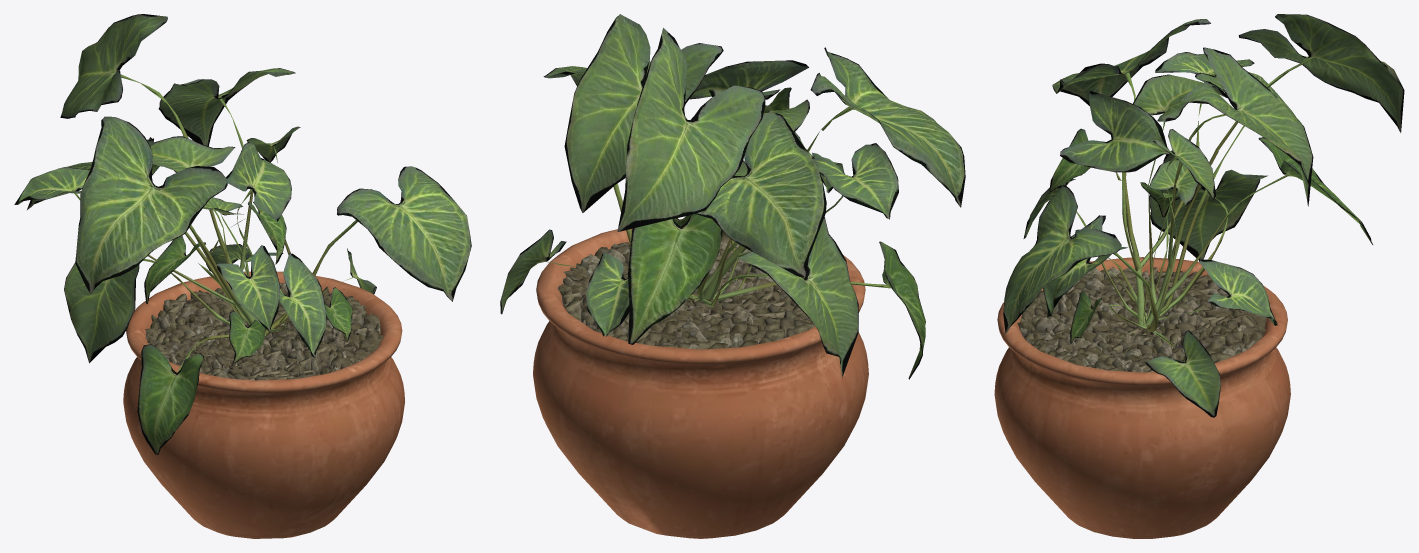
The model's file is potted_plant_02.glb.
3 views of the same model, side by side, from view 1: azimuth 30°, elevation 25°; view 2: azimuth 150°, elevation 25°; view 3: azimuth 270°, elevation 25° (orthographic). The views are drawn at different scales.
Visible parts, largest first — view 1: potted_plant_02_leaves, potted_plant_02_pot; view 2: potted_plant_02_leaves, potted_plant_02_pot; view 3: potted_plant_02_pot, potted_plant_02_leaves.
Boxes of the visible parts, box(x1,y1,x2,y2) form: potted_plant_02_leaves: box(14, 14, 471, 454); potted_plant_02_pot: box(123, 271, 404, 538); potted_plant_02_leaves: box(500, 14, 965, 379); potted_plant_02_pot: box(533, 219, 868, 538); potted_plant_02_pot: box(994, 257, 1290, 538); potted_plant_02_leaves: box(1003, 14, 1404, 417).
Size of the model in its own units: 0.8346 by 1 by 0.7806.
2 materials, 2 textured.
